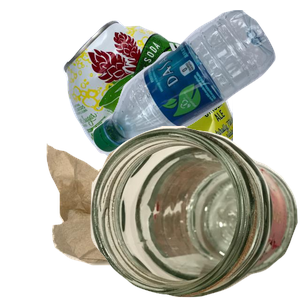glass: (90, 126, 300, 300)
metal: (60, 18, 300, 198)
plastic: (90, 10, 300, 156)
trash: (44, 136, 277, 300)
